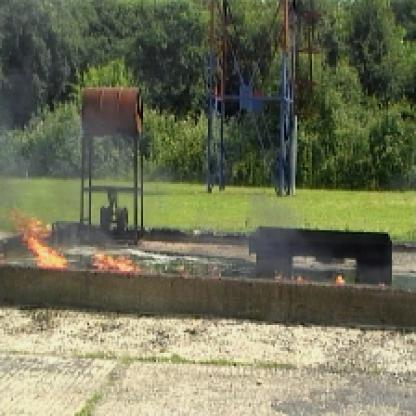Fire: (15, 212, 70, 269), (260, 262, 364, 290), (82, 243, 136, 273)
Smoke: (2, 26, 152, 210)
